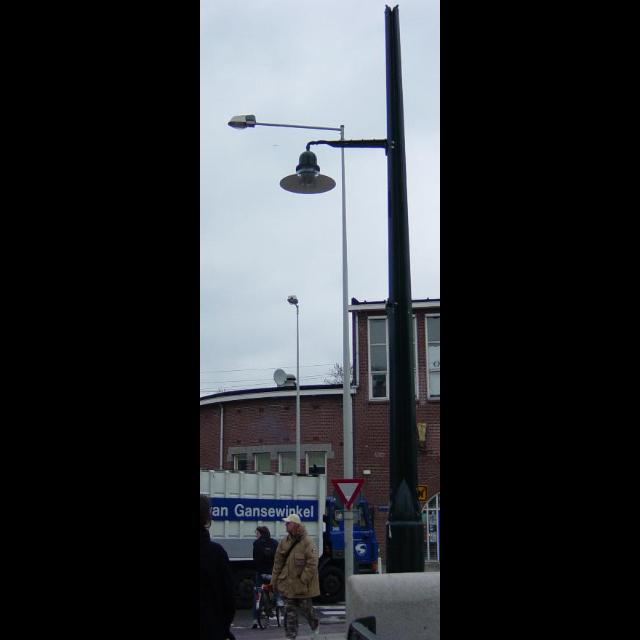Street-Lamp: (228, 110, 356, 576)
